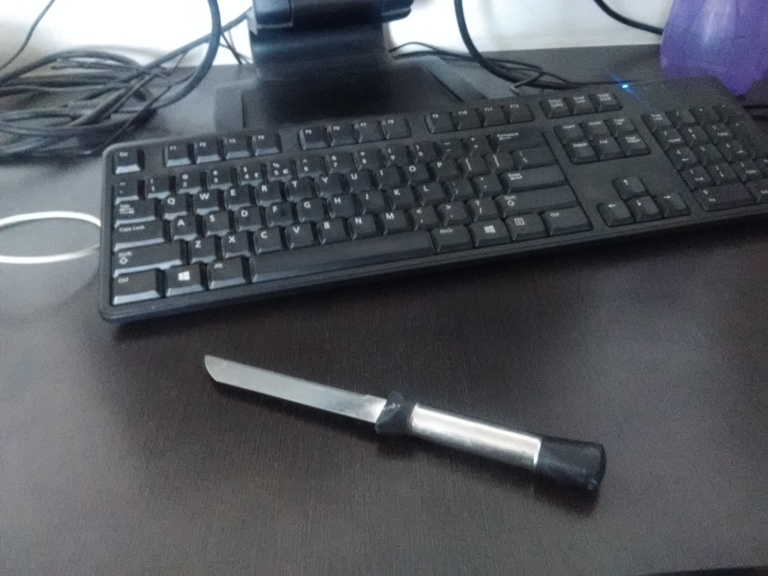knife: (202, 351, 607, 500)
